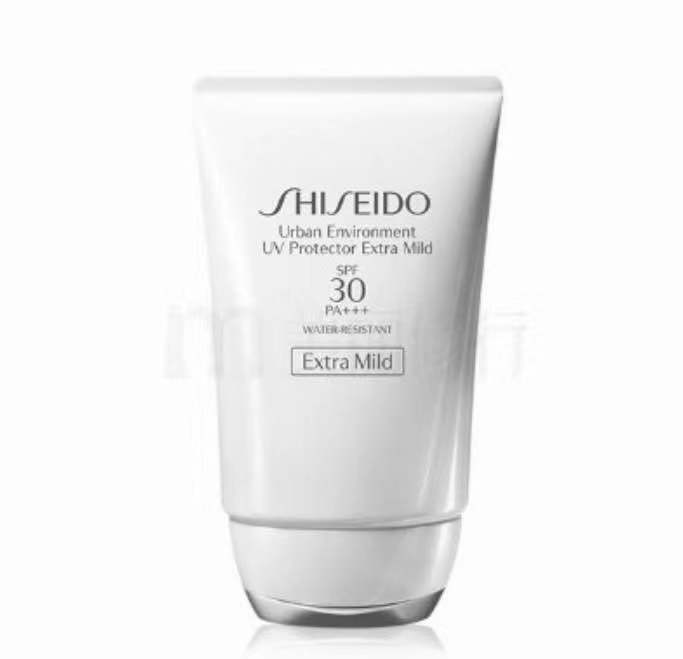cosmetic: (189, 76, 506, 634)
